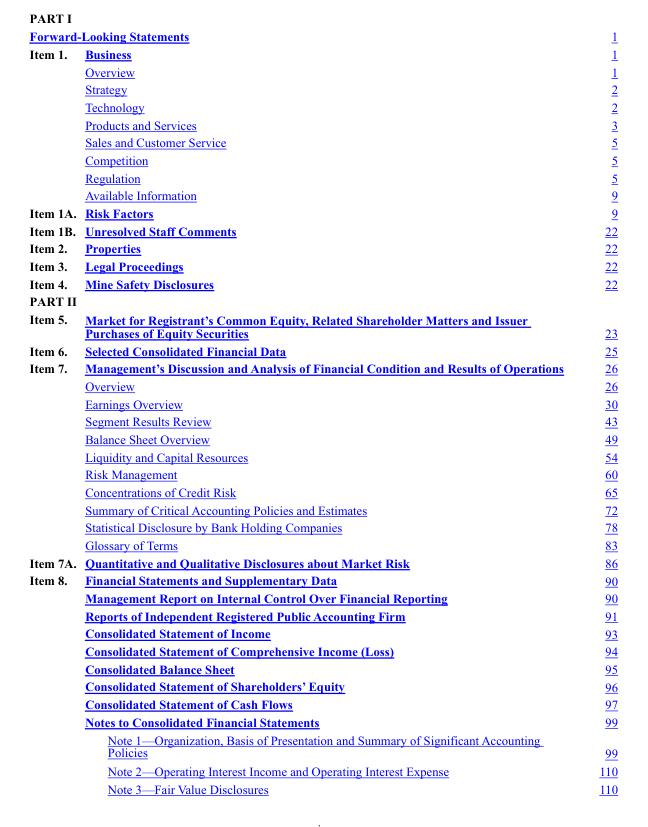table: (28, 28, 616, 795)
table column: (79, 28, 580, 795), (28, 28, 79, 795), (580, 28, 616, 795)
table column header: (28, 28, 616, 203)
table projected row header: (28, 292, 616, 309)
table row: (28, 44, 616, 203), (28, 309, 616, 341), (28, 730, 616, 762), (28, 203, 616, 221), (28, 221, 616, 239), (28, 256, 616, 274), (28, 274, 616, 292), (28, 341, 616, 359), (28, 376, 616, 394), (28, 394, 616, 412), (28, 429, 616, 447), (28, 447, 616, 465), (28, 465, 616, 483), (28, 500, 616, 518), (28, 518, 616, 536), (28, 553, 616, 571), (28, 571, 616, 589), (28, 606, 616, 624), (28, 624, 616, 642), (28, 659, 616, 677), (28, 677, 616, 695), (28, 712, 616, 730), (28, 239, 616, 256), (28, 292, 616, 309), (28, 359, 616, 376), (28, 412, 616, 429), (28, 483, 616, 500), (28, 536, 616, 553), (28, 589, 616, 606), (28, 642, 616, 659), (28, 695, 616, 712), (28, 762, 616, 779), (28, 28, 616, 44), (28, 779, 616, 795)
table spanning cell: (28, 571, 79, 795), (28, 359, 79, 553), (28, 28, 580, 44), (580, 28, 616, 203)
